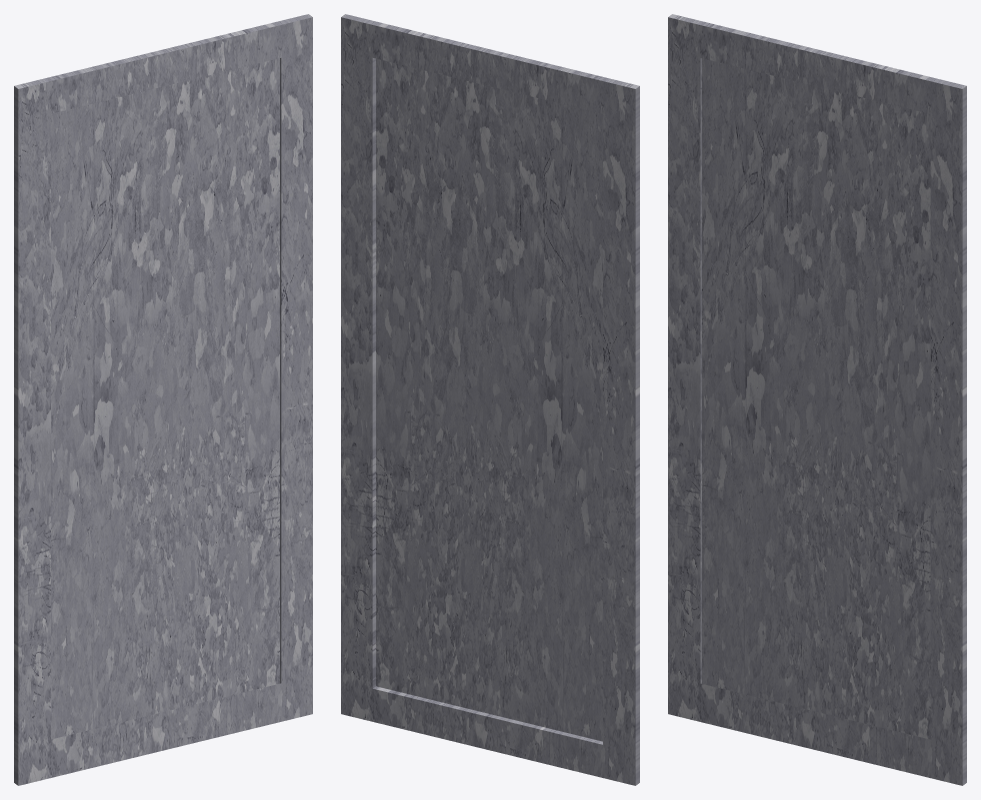
Rendered from espejo.obj.
The picture shows the model from 3 angles, left to right: view 1: azimuth 30°, elevation 25°; view 2: azimuth 150°, elevation 25°; view 3: azimuth 330°, elevation 25°; orthographic projection.
Parts seen in each view (by area): view 1: Group_001; view 2: Group_001; view 3: Group_001.
Part boxes in pixels (x1,y1,x2,y2): Group_001: (14, 14, 312, 785); Group_001: (341, 14, 639, 785); Group_001: (668, 14, 966, 785).
Bounding box in the file's own units: 8.47 × 19.14 × 0.2171.
1 material, 1 textured.
